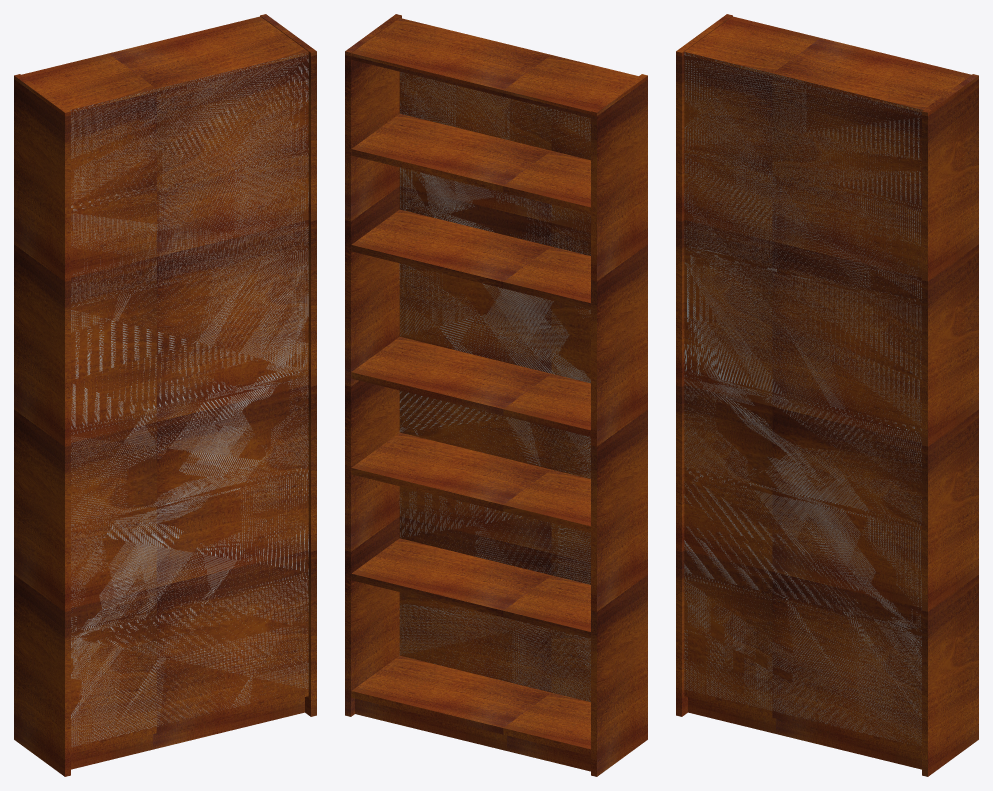
3 views of the same model, side by side, from view 1: azimuth 30°, elevation 25°; view 2: azimuth 150°, elevation 25°; view 3: azimuth 330°, elevation 25° (orthographic).
Parts seen in each view (by area): view 1: mesh1_mesh1-geometry; view 2: mesh1_mesh1-geometry; view 3: mesh1_mesh1-geometry.
Boxes of the visible parts, x1,y1,x2,y2 form: mesh1_mesh1-geometry: (14, 14, 316, 776); mesh1_mesh1-geometry: (345, 14, 647, 776); mesh1_mesh1-geometry: (676, 14, 978, 776).
Size of the model in its own units: 0.3659 by 0.9218 by 0.1284.
